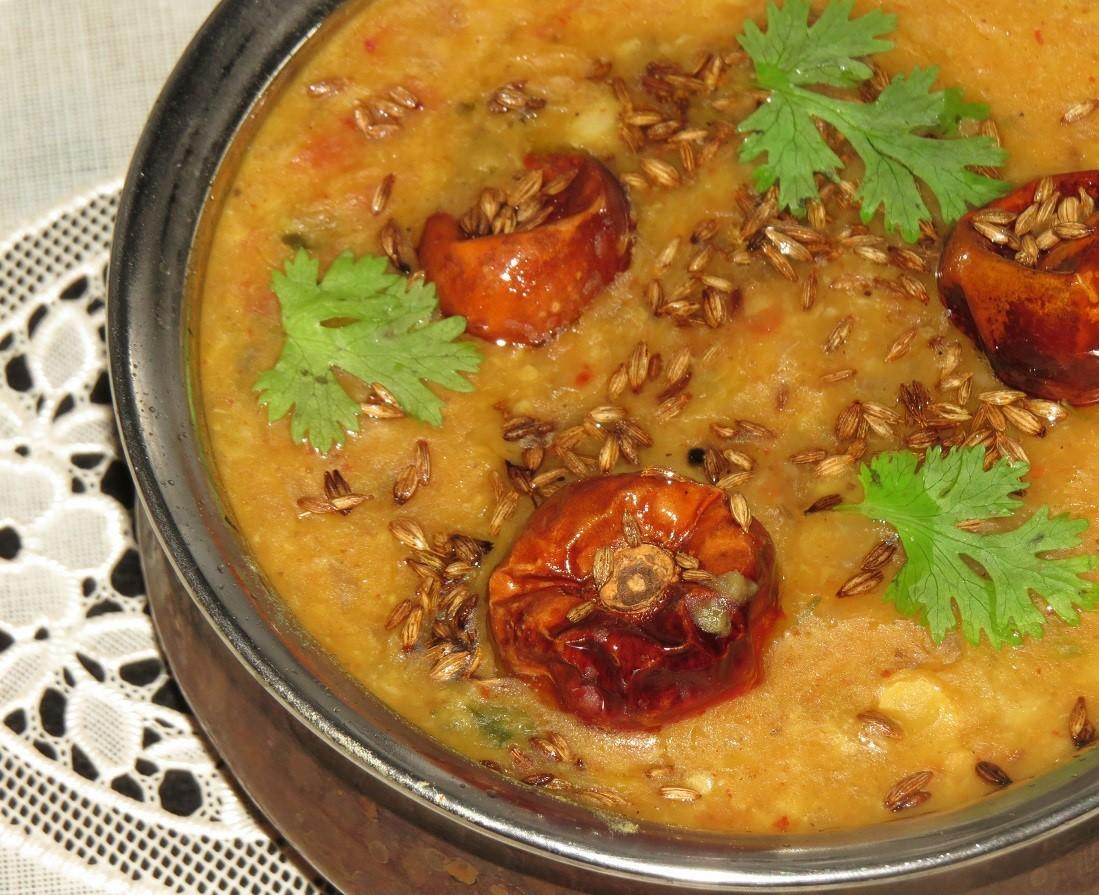Dal: (196, 0, 1099, 835)
